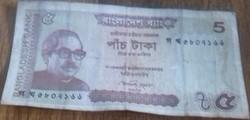5 taka: (18, 2, 247, 114)
